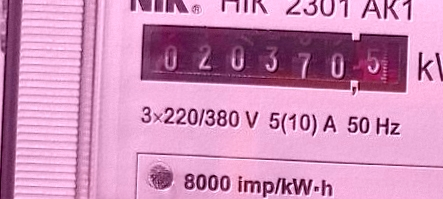0: (328, 51, 347, 82), (161, 42, 179, 72), (229, 43, 245, 72)
2: (195, 42, 214, 73)
3: (262, 43, 279, 74)
5: (364, 45, 383, 77)
7: (295, 51, 311, 81)
screen: (132, 17, 417, 103)
